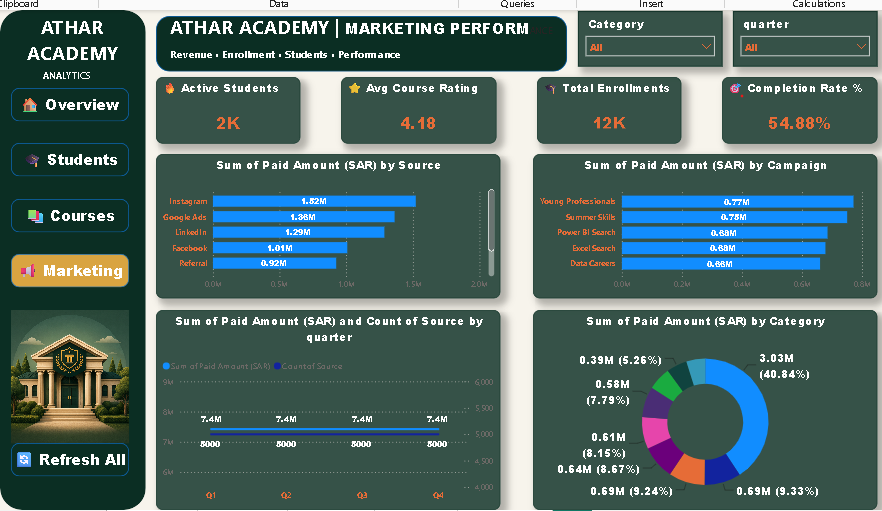

What the dashboard file says about the page in this screenshot:
{"tool":"powerbi","page":{"name":"Marketing ","canvas":[1280,720],"ordinal":4},"visuals":[{"type":"shape","box":[0,0,210,720],"z":0,"group":"g2"},{"type":"shape","box":[224,8,592,80],"z":0,"group":"g3"},{"type":"textbox","box":[0,0,208,96],"z":1000,"group":"g2"},{"type":"textbox","box":[240,0,560,48],"z":1000,"group":"g3"},{"type":"textbox","box":[240,48,352,32],"z":2000,"group":"g3"},{"type":"textbox","box":[0,80,192,32],"z":2000,"group":"g2"},{"type":"shape","box":[16,112,170,48],"z":3000,"group":"g2"},{"type":"shape","box":[16,192,170,48],"z":4000,"group":"g2"},{"type":"shape","box":[16,272,170,48],"z":5000,"group":"g2"},{"type":"shape","box":[16,352,170,48],"z":6000,"group":"g2"},{"type":"image","box":[16,432,170,192],"z":7000,"group":"g2"},{"type":"shape","box":[16,656,170,48],"z":8000},{"type":"group","id":"g1","title":"Group 1","box":[224,0,592,88],"z":9000},{"type":"group","id":"g2","title":"Group 3","box":[0,0,210,720],"z":9001},{"type":"cardVisual","title":"⭐ Avg Course Rating","fields":{"Data":["Calender.Avg_Course_Rating"]},"box":[490.7,96,224,96],"z":9003},{"type":"cardVisual","title":"🎯 Completion Rate %","fields":{"Data":["Calender.Completion Rate"]},"box":[1040,96,224,96],"z":9005},{"type":"slicer","fields":{"Values":["Courses.Category"]},"box":[832.7,1.3,208,80],"z":9006},{"type":"slicer","fields":{"Values":["Calender.quarter"]},"box":[1056,1.3,208,80],"z":9007},{"type":"shape","box":[16,624,170,48],"z":9008},{"type":"cardVisual","title":"🎓 Total Enrollments","fields":{"Data":["Calender.Total Enrollments"]},"box":[773.3,96,208,96],"z":9009},{"type":"cardVisual","title":"🔥 Active Students","fields":{"Data":["Calender.Active Students"]},"box":[224,96,208,96],"z":9010},{"type":"clusteredBarChart","fields":{"Category":["Marketing.Source"],"Y":["Sum(Enrollments.Paid Amount (SAR))"]},"box":[224,208,496,208],"z":9011},{"type":"clusteredBarChart","fields":{"Category":["Marketing.Campaign"],"Y":["Sum(Enrollments.Paid Amount (SAR))"]},"box":[768,208,496,208],"z":9012},{"type":"lineChart","fields":{"Category":["Calender.quarter"],"Y":["Sum(Enrollments.Paid Amount (SAR))"],"Y2":["CountNonNull(Marketing.Source)"]},"box":[224,432,496,288],"z":9013},{"type":"donutChart","fields":{"Category":["Courses.Category"],"Y":["Sum(Enrollments.Paid Amount (SAR))"]},"box":[768,432,496,288],"z":9014},{"type":"group","id":"g3","title":"Group 2","box":[224,0,592,88],"z":15003,"group":"g1"}]}

Visuals, with their boxes on the page's 1280x720 design canvas (x1, y1, x2, y2). These are canvas units, not pixel positions in the 882x511 screenshot, which may show the page scaled, cropped or inside an application window:
shape: <box>0,0,210,720</box>
shape: <box>224,8,816,88</box>
textbox: <box>0,0,208,96</box>
textbox: <box>240,0,800,48</box>
textbox: <box>240,48,592,80</box>
textbox: <box>0,80,192,112</box>
shape: <box>16,112,186,160</box>
shape: <box>16,192,186,240</box>
shape: <box>16,272,186,320</box>
shape: <box>16,352,186,400</box>
image: <box>16,432,186,624</box>
shape: <box>16,656,186,704</box>
"Group 1" group: <box>224,0,816,88</box>
"Group 3" group: <box>0,0,210,720</box>
"⭐ Avg Course Rating" cardVisual: <box>491,96,715,192</box>
"🎯 Completion Rate %" cardVisual: <box>1040,96,1264,192</box>
slicer - Courses.Category: <box>833,1,1041,81</box>
slicer - Calender.quarter: <box>1056,1,1264,81</box>
shape: <box>16,624,186,672</box>
"🎓 Total Enrollments" cardVisual: <box>773,96,981,192</box>
"🔥 Active Students" cardVisual: <box>224,96,432,192</box>
clusteredBarChart - Marketing.Source x Sum(Enrollments.Paid Amount (SAR)): <box>224,208,720,416</box>
clusteredBarChart - Marketing.Campaign x Sum(Enrollments.Paid Amount (SAR)): <box>768,208,1264,416</box>
lineChart - Calender.quarter x Sum(Enrollments.Paid Amount (SAR)): <box>224,432,720,720</box>
donutChart - Courses.Category x Sum(Enrollments.Paid Amount (SAR)): <box>768,432,1264,720</box>
"Group 2" group: <box>224,0,816,88</box>
